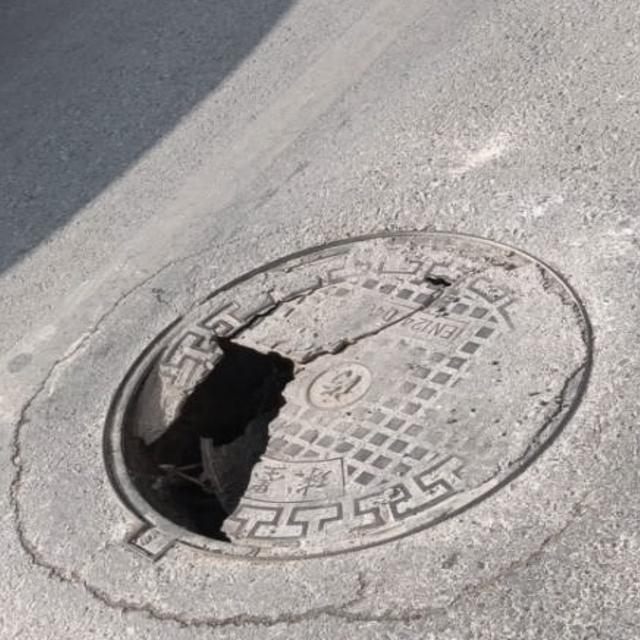broke: (15, 207, 640, 640)
